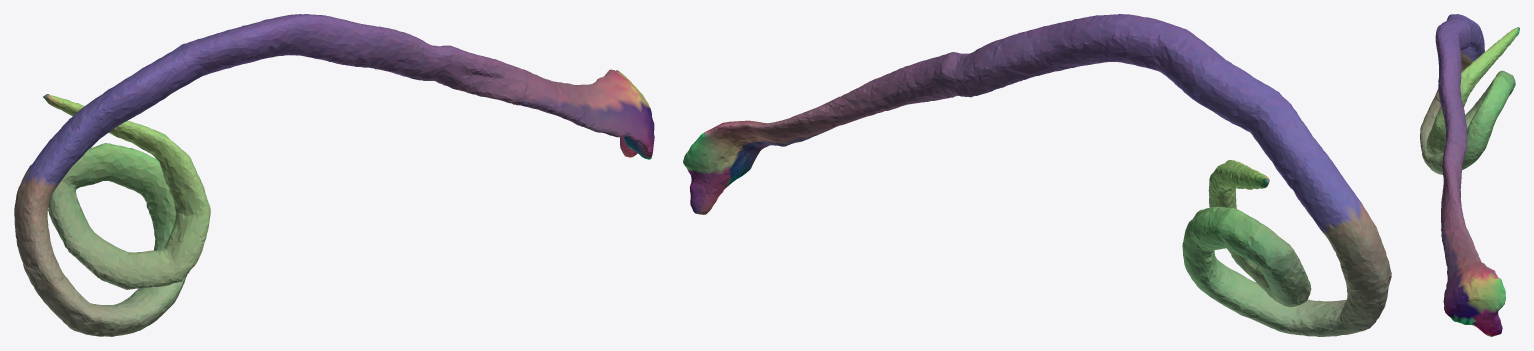
Rendered from snake-7.off.obj.
3 views of the same model, side by side, from view 1: azimuth 30°, elevation 25°; view 2: azimuth 150°, elevation 25°; view 3: azimuth 270°, elevation 25° (orthographic). The views are drawn at different scales.
Bounding box in the file's own units: 1.4 × 0.5616 × 0.2788.
